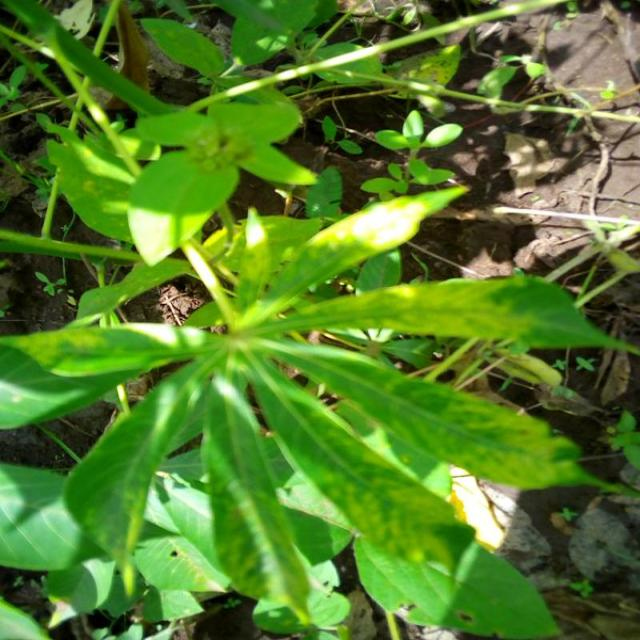cassava leaf: (1, 1, 634, 638)
